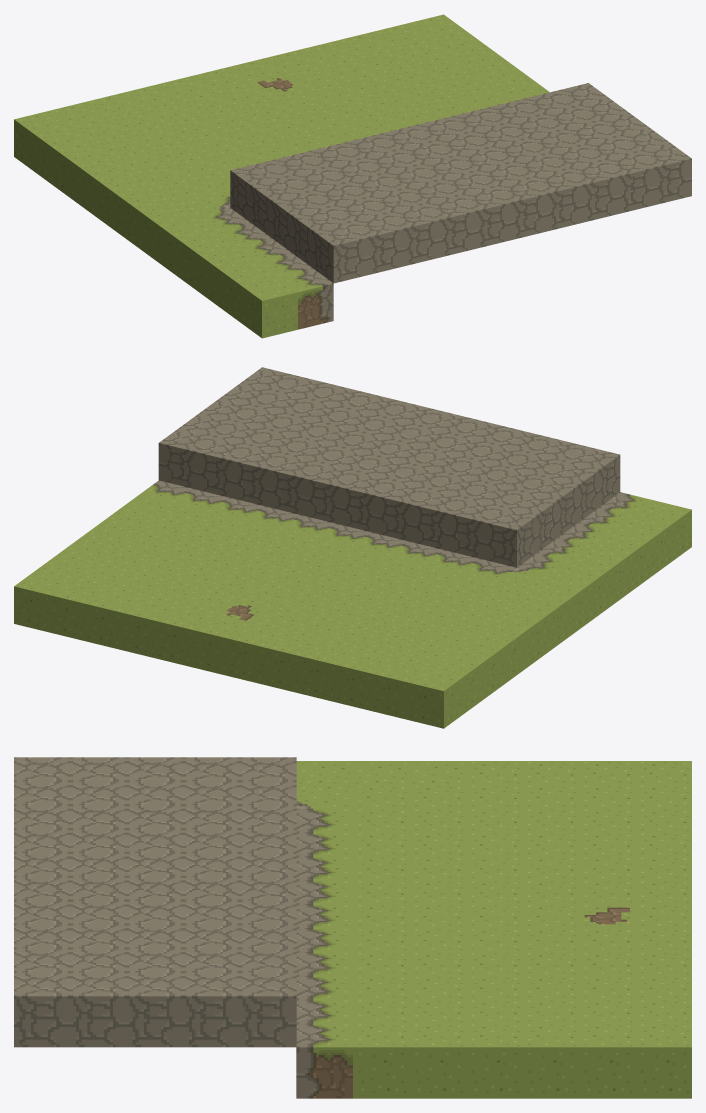
Rendered from mudmiMap31.1.vox.obj.
The picture shows the model from 3 angles, top to bottom: view 1: azimuth 30°, elevation 25°; view 2: azimuth 150°, elevation 25°; view 3: azimuth 270°, elevation 25°; orthographic projection. The views are drawn at different scales.
Size of the model in its own units: 24 by 4 by 24.
Materials: 1 (1 with a texture image).
